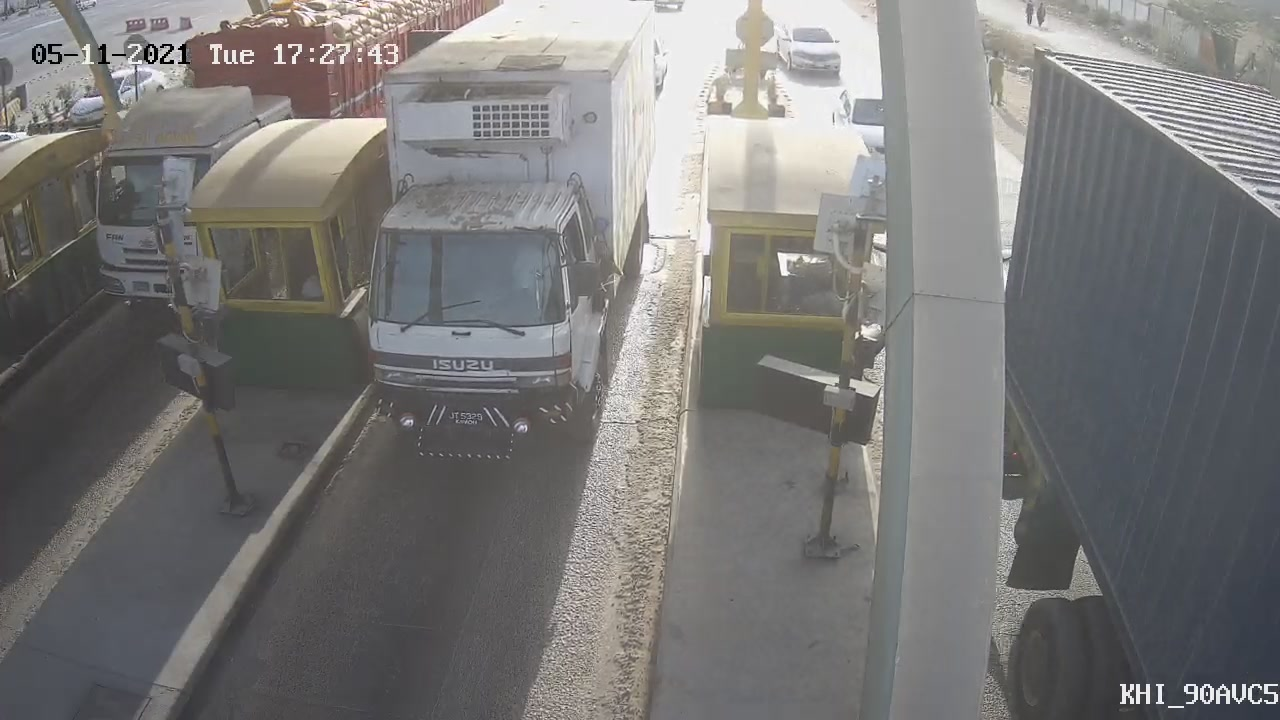F5: (309, 1, 686, 485)
